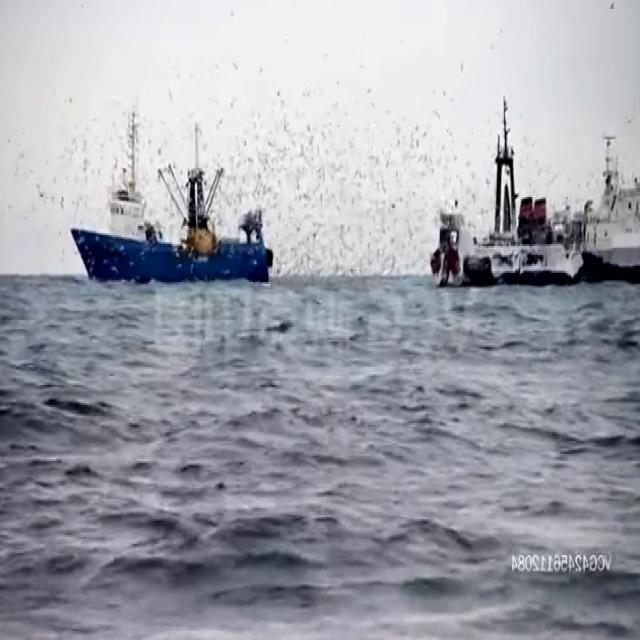houseboat: (69, 132, 277, 292), (428, 103, 604, 284), (547, 123, 640, 273)
